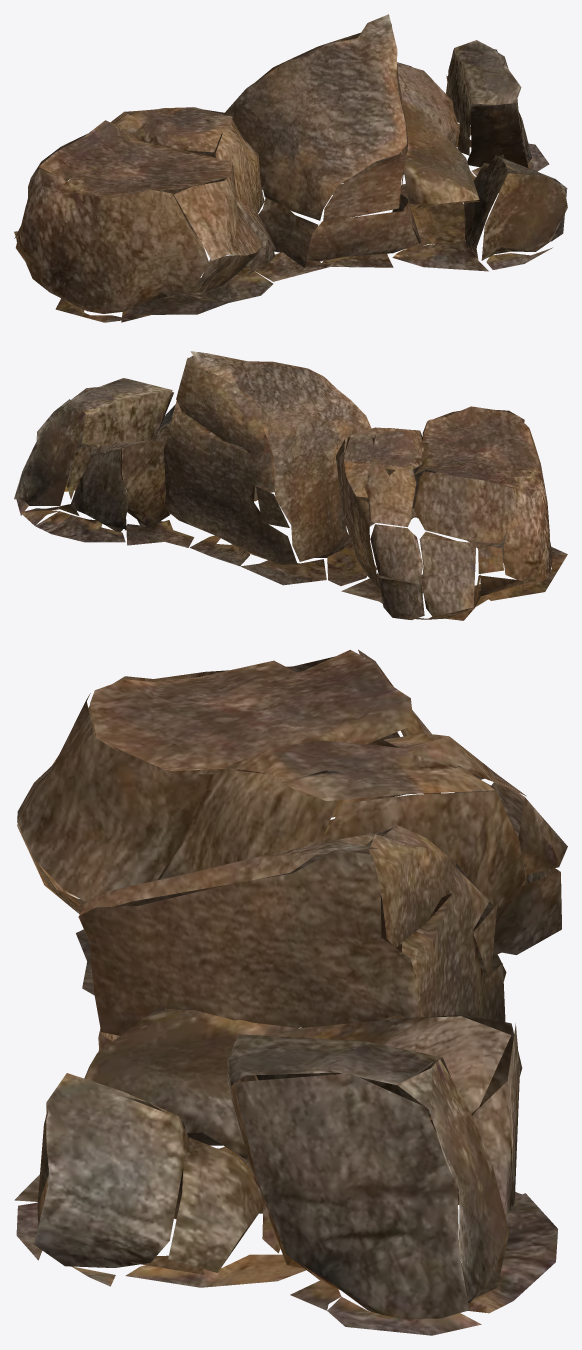
The model's file is ph_namaqualand_boulder_02.glb.
3 views of the same model, one above another, from view 1: azimuth 30°, elevation 25°; view 2: azimuth 150°, elevation 25°; view 3: azimuth 270°, elevation 25° (orthographic). The views are drawn at different scales.
Parts seen in each view (by area): view 1: boulder_02; view 2: boulder_02; view 3: boulder_02.
Boxes of the visible parts, x1,y1,x2,y2 form: boulder_02: (14,14,567,322); boulder_02: (14,351,567,620); boulder_02: (14,649,567,1335).
Size of the model in its own units: 2.52 by 0.8723 by 1.22.
1 material, 1 textured.
